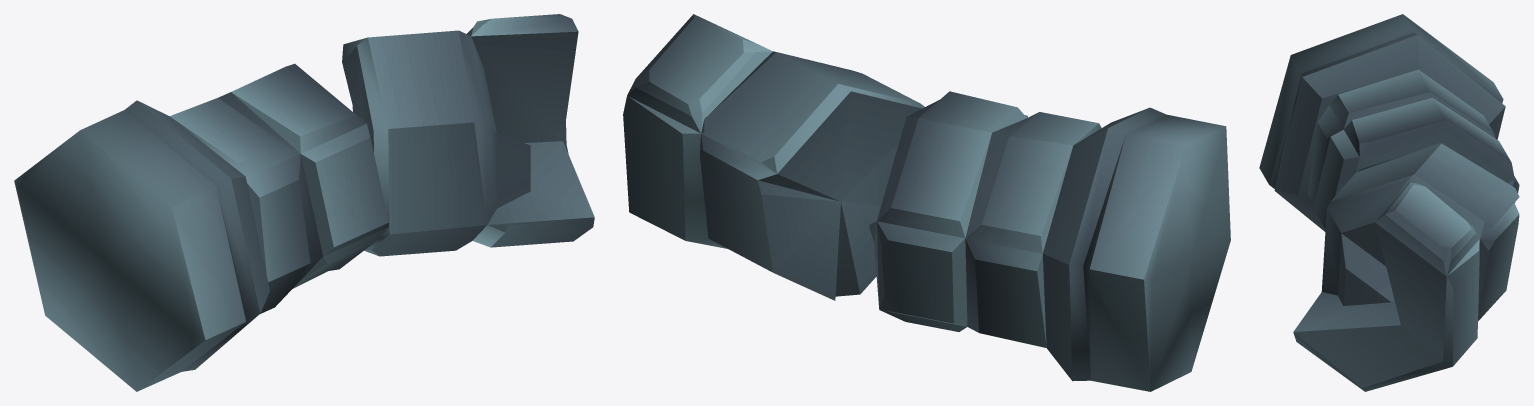
File: Modular_Dungeon_Pillar_Hex_Broken_Top.fbx
The picture shows the model from 3 angles, left to right: view 1: azimuth 30°, elevation 25°; view 2: azimuth 150°, elevation 25°; view 3: azimuth 270°, elevation 25°; orthographic projection. The views are drawn at different scales.
Visible parts, largest first — view 1: Pillar_Hex_Broken_Top; view 2: Pillar_Hex_Broken_Top; view 3: Pillar_Hex_Broken_Top.
Boxes of the visible parts, x1=… form: Pillar_Hex_Broken_Top: x1=14, y1=14, x2=594, y2=391; Pillar_Hex_Broken_Top: x1=623, y1=14, x2=1230, y2=391; Pillar_Hex_Broken_Top: x1=1259, y1=14, x2=1519, y2=391.
Size of the model in its own units: 5.53 by 2.54 by 2.76.
1 material, 1 textured.
